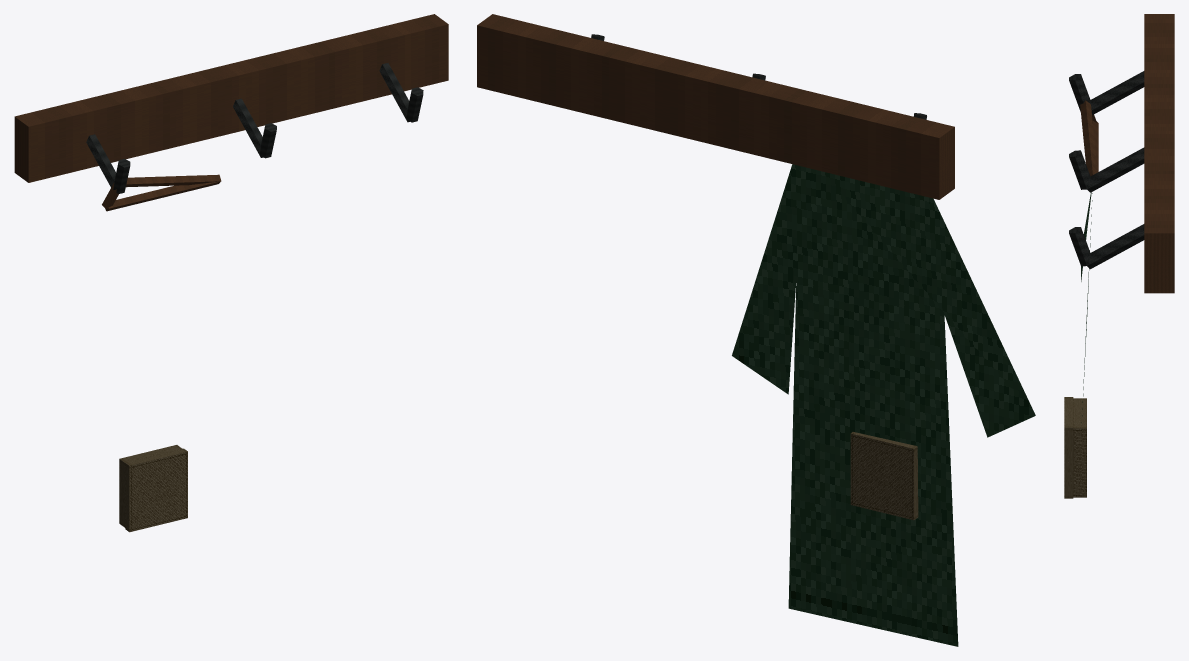
Rendered from level_house_coat_hung.glb.
The picture shows the model from 3 angles, left to right: view 1: azimuth 30°, elevation 25°; view 2: azimuth 150°, elevation 25°; view 3: azimuth 270°, elevation 25°; orthographic projection. The views are drawn at different scales.
Parts seen in each view (by area): view 1: level_house_coat_hung; view 2: level_house_coat_hung; view 3: level_house_coat_hung.
Part boxes in pixels (x1,y1,x2,y2): level_house_coat_hung: [14, 14, 448, 532]; level_house_coat_hung: [477, 14, 1035, 646]; level_house_coat_hung: [1064, 14, 1174, 498].
Bounding box in the file's own units: 0.95 × 0.985 × 0.1825.
4 materials, 4 textured.
